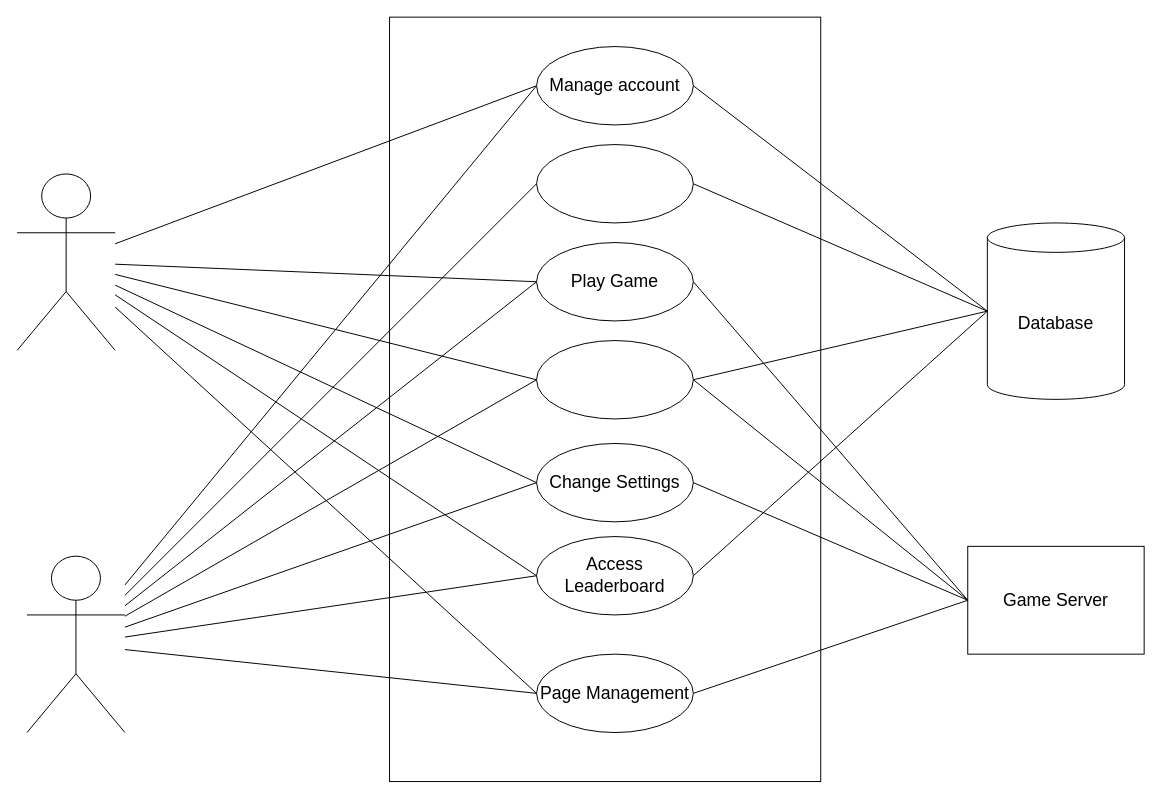
This 1161x799 diagram has some shape labels left out. Each missing label, with the box of its shape:
Admin: (26, 555, 125, 733)
Customize Character: (536, 340, 693, 419)
Manage users: (536, 144, 693, 223)
Player: (16, 173, 115, 350)
